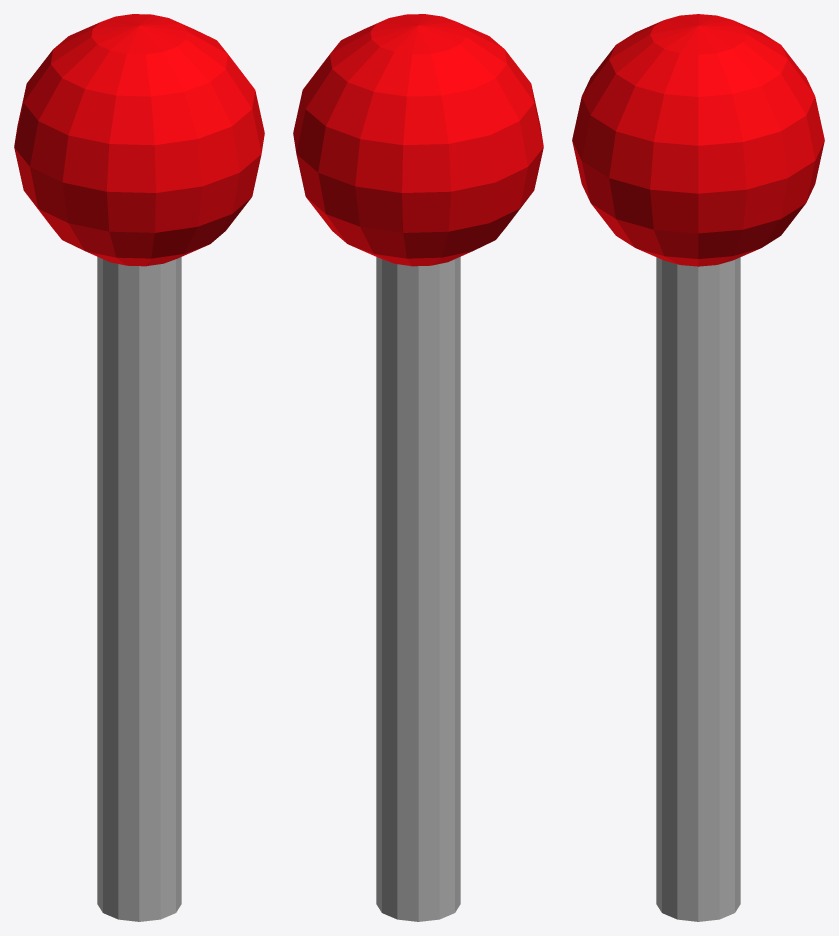
Rendered from pin.glb.
3 views of the same model, side by side, from view 1: azimuth 30°, elevation 25°; view 2: azimuth 150°, elevation 25°; view 3: azimuth 270°, elevation 25° (orthographic).
Parts seen in each view (by area): view 1: Cylinder; view 2: Cylinder; view 3: Cylinder.
Part boxes in pixels (x1,y1,x2,y2): Cylinder: [14, 14, 264, 921]; Cylinder: [293, 14, 543, 921]; Cylinder: [572, 14, 824, 921].
Size of the model in its own units: 0.6 by 2.3 by 0.6.
